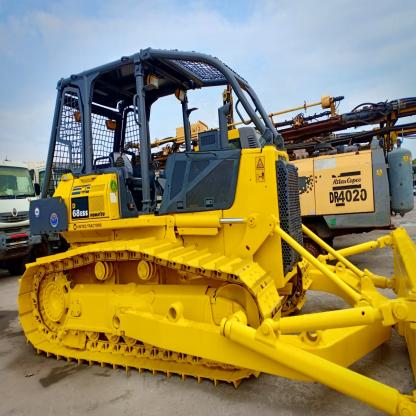bull_dozer/loader/grader: (20, 39, 416, 416)
